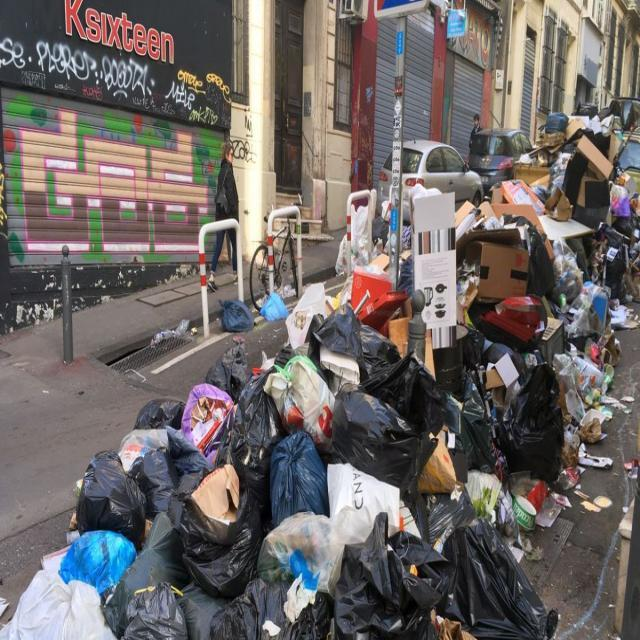garbage: (75, 212, 640, 640)
